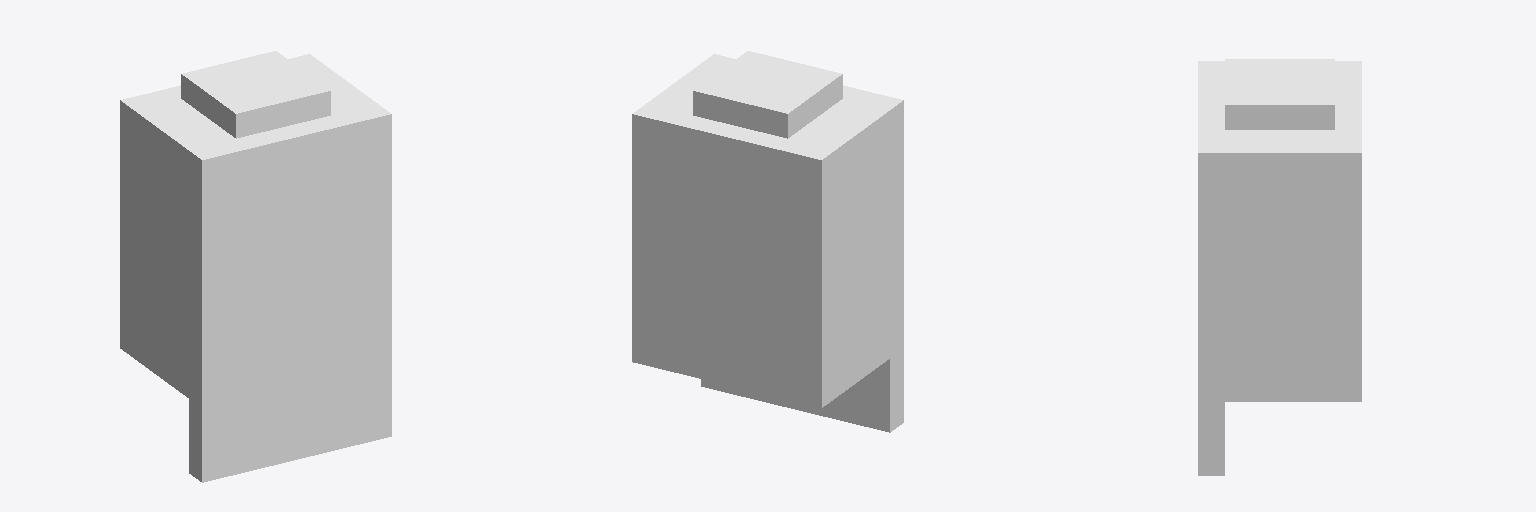
The model's file is BobTorsoe.obj.
3 views of the same model, side by side, from view 1: azimuth 30°, elevation 25°; view 2: azimuth 150°, elevation 25°; view 3: azimuth 270°, elevation 25° (orthographic).
Parts seen in each view (by area): view 1: object 1; view 2: object 1; view 3: object 1.
Part boxes in pixels (x1,y1,x2,y2): object 1: (120, 51, 391, 482); object 1: (632, 51, 903, 432); object 1: (1198, 59, 1361, 475).
Bounding box in the file's own units: 0.8 × 1.4 × 0.6.